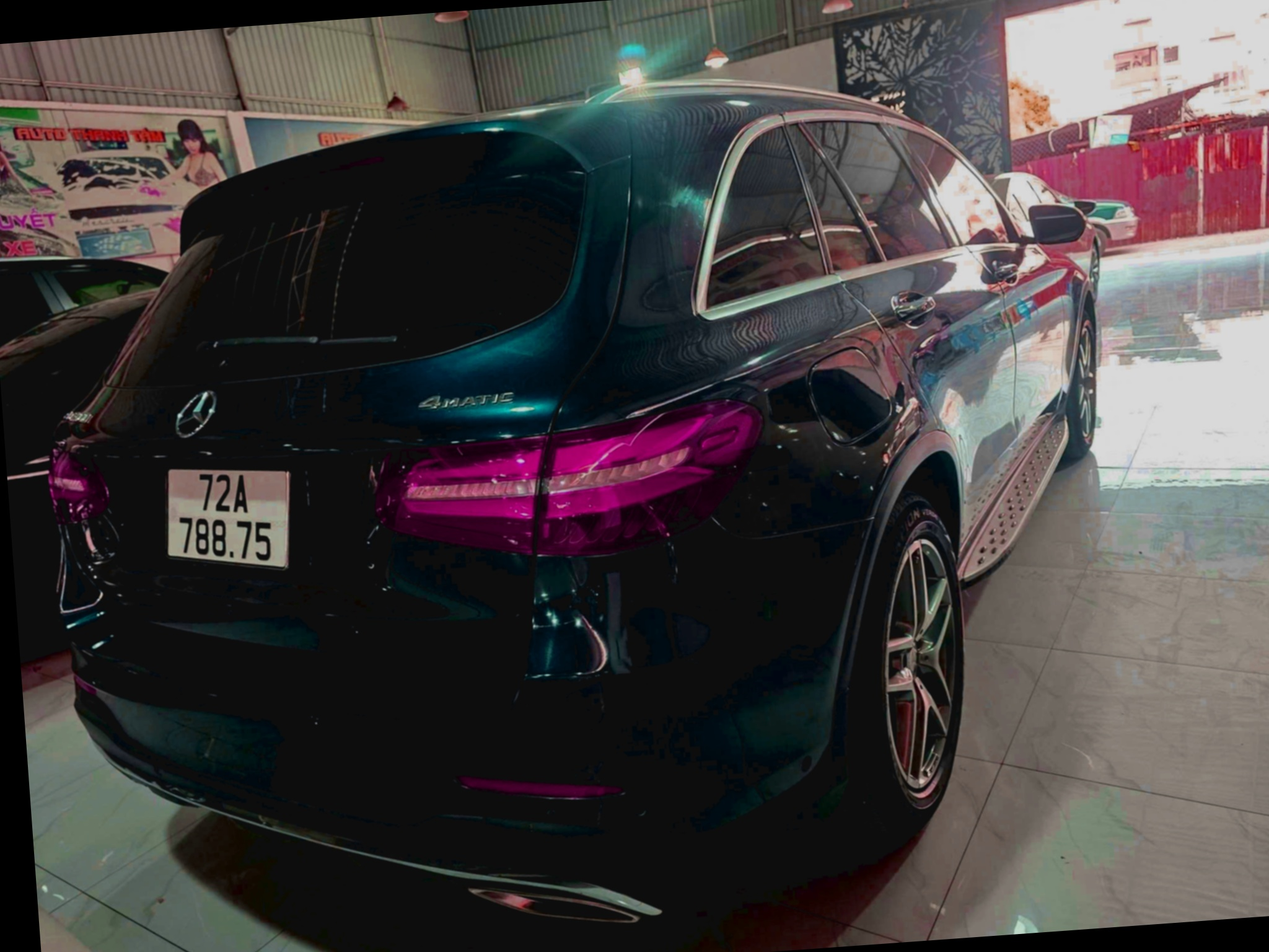Bien-so: (159, 456, 299, 575)
